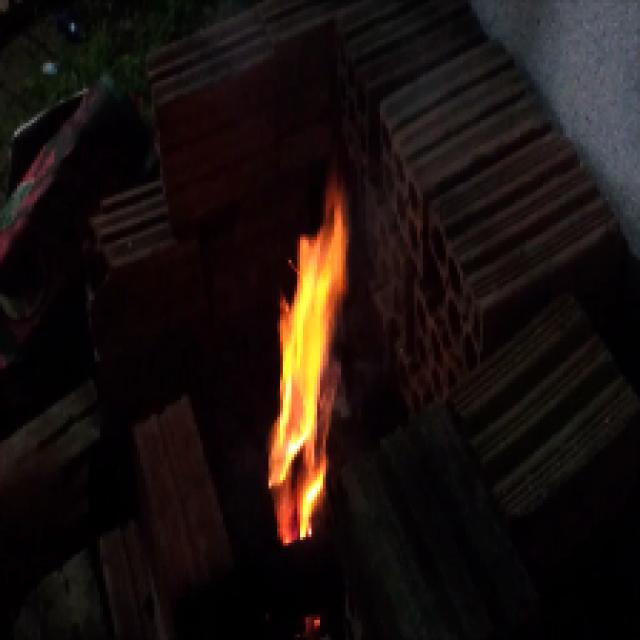fire: (261, 197, 349, 547)
